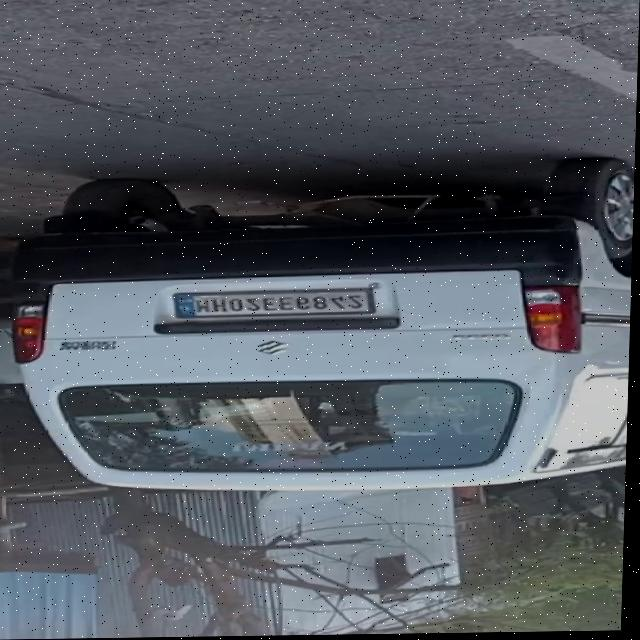plate: (170, 287, 380, 320)
